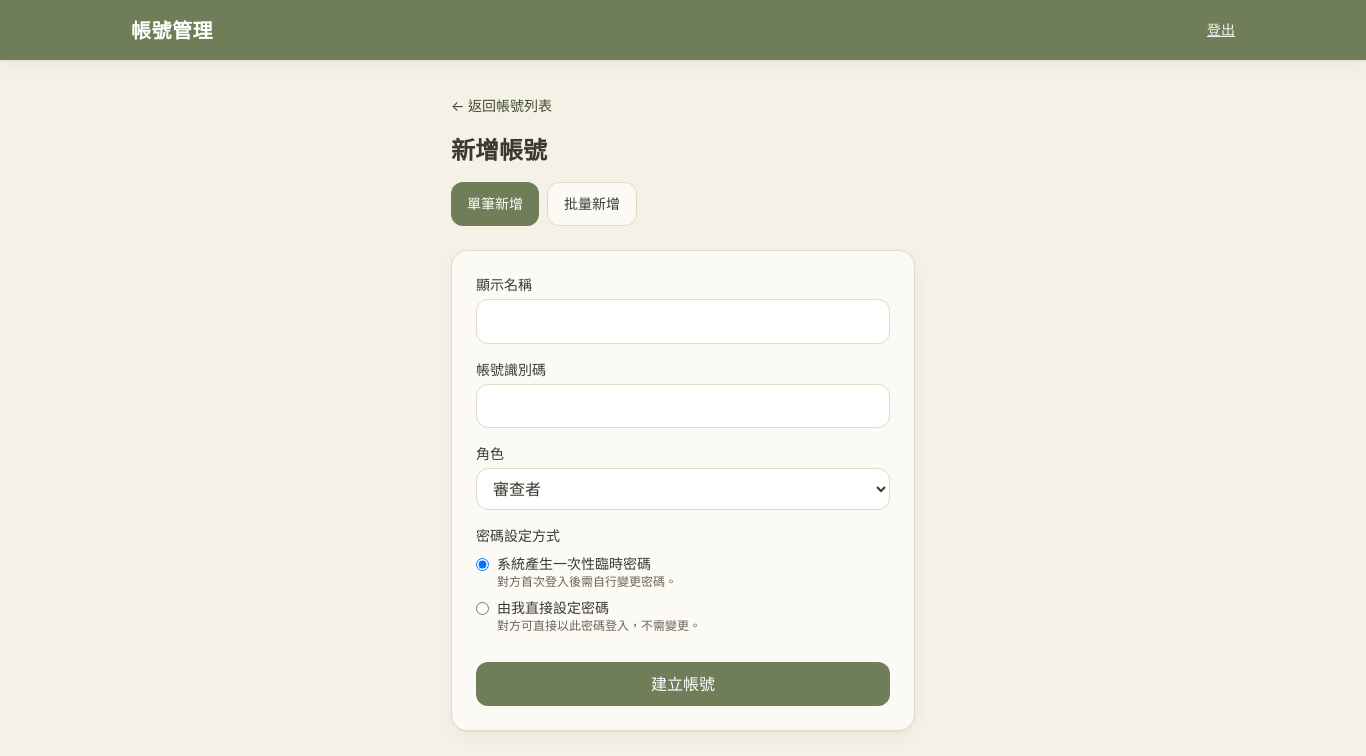
it: AccountCreatePage (US2) › surfaces the one-time temp password after creating an account
Type "林醫師" into the field labelled "顯示名稱" at (683, 322), box left=476, top=299, right=890, bottom=344
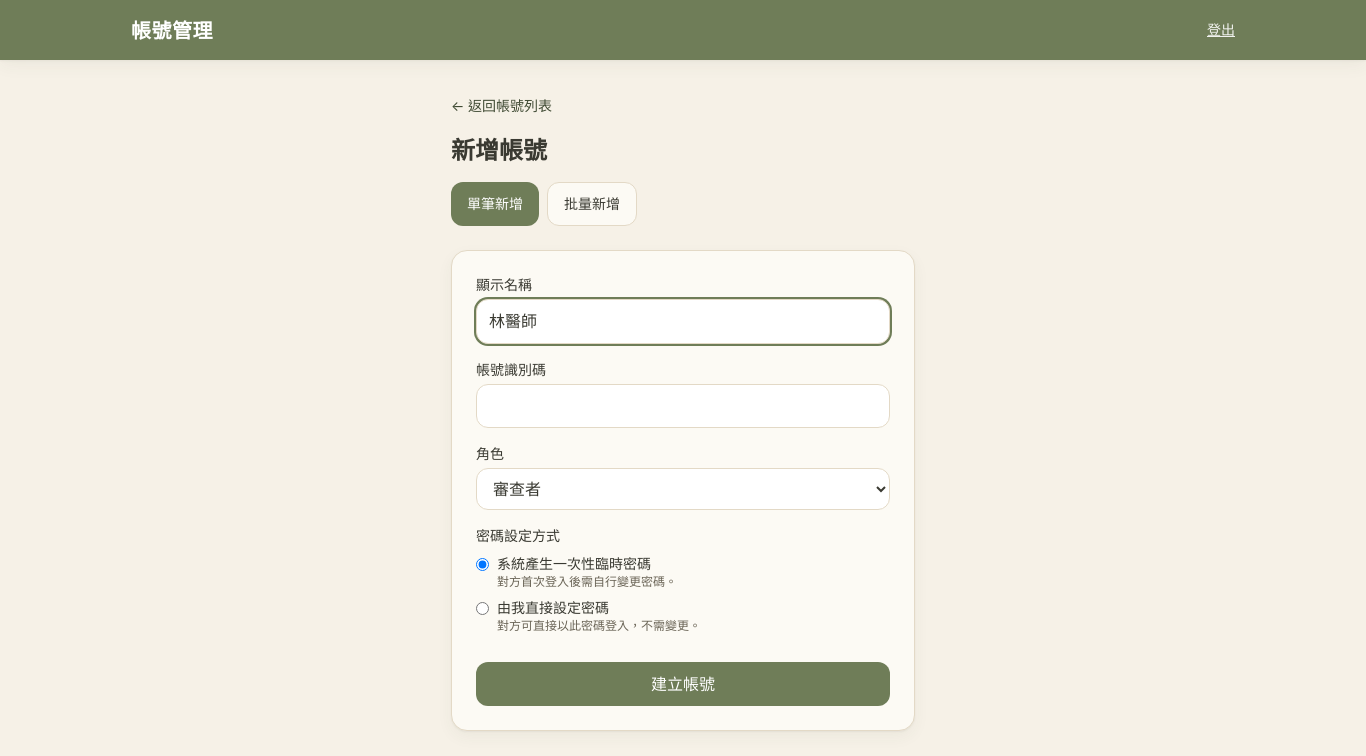
Type "dr.lin" into the field labelled "帳號識別碼" at (683, 406), box left=476, top=384, right=890, bottom=428
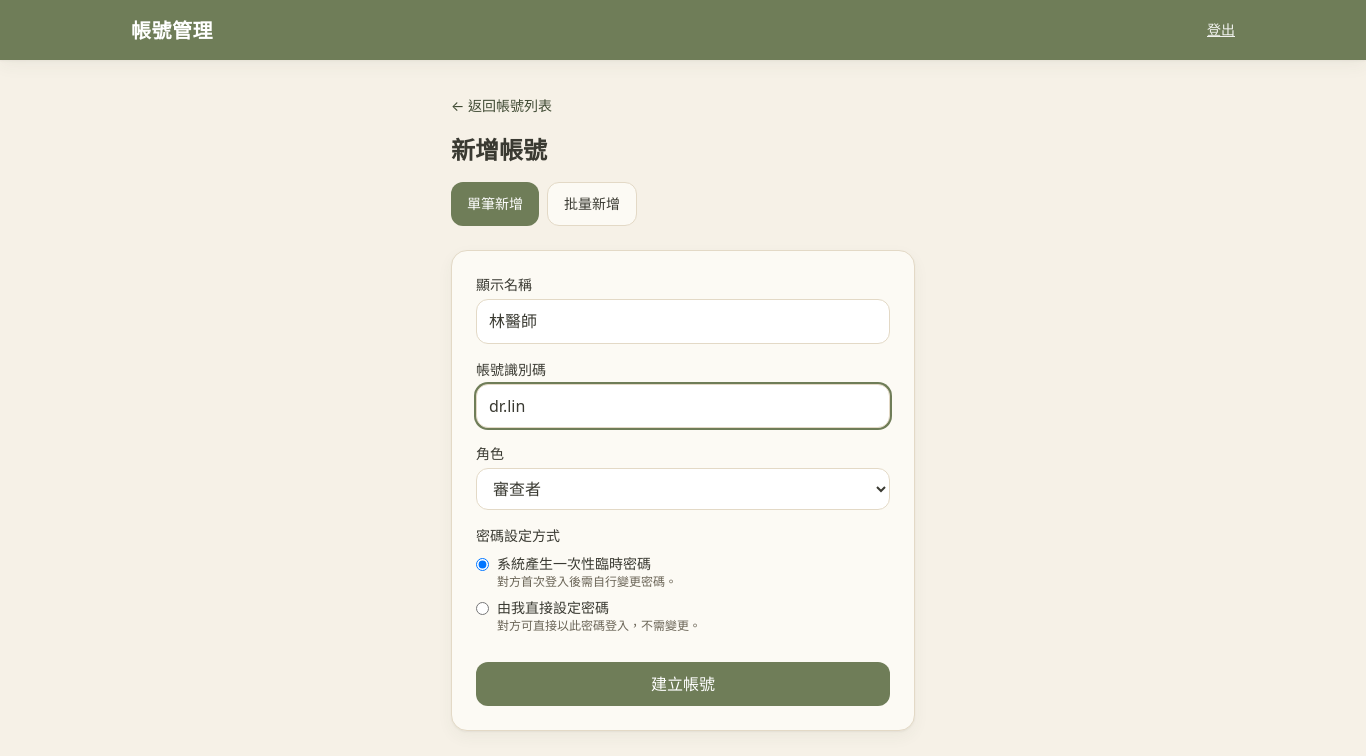
Click the button "建立帳號" at (683, 684), box left=476, top=662, right=890, bottom=706
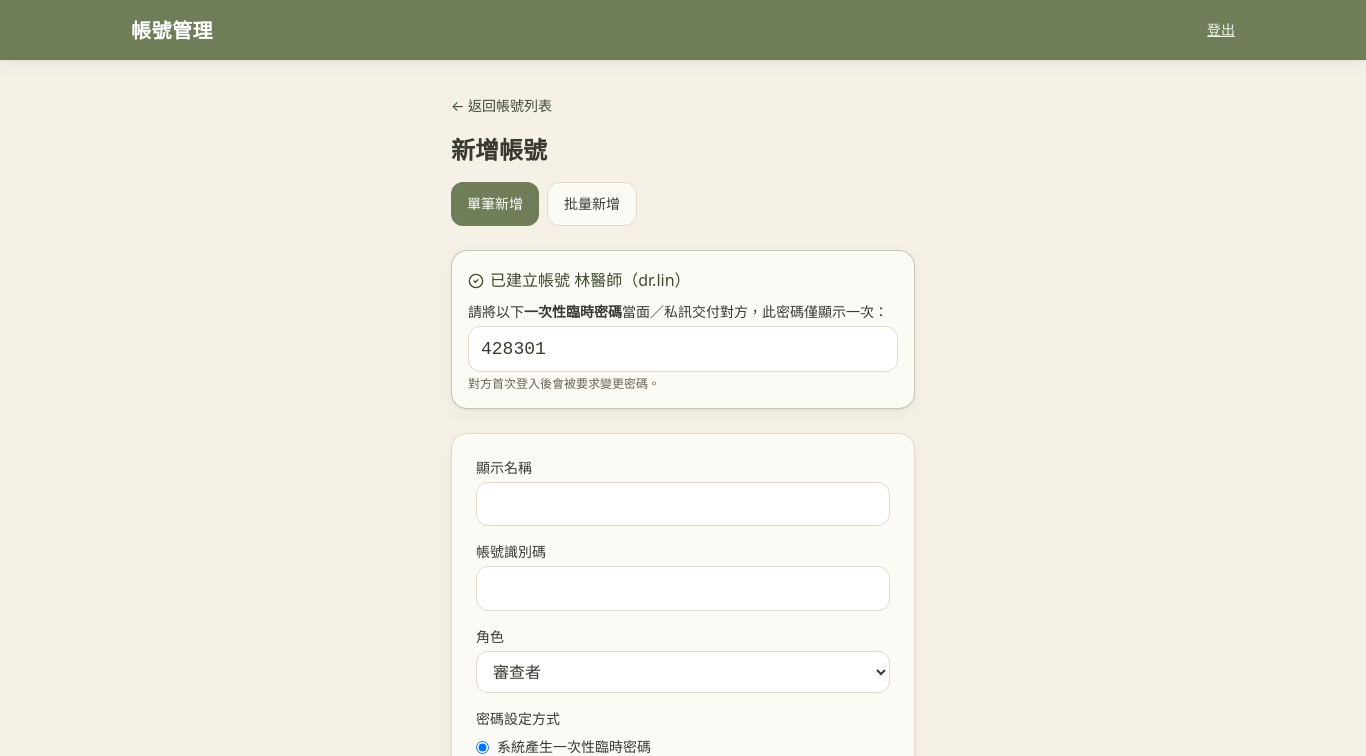
Now the text "428301" is shown, box left=468, top=326, right=898, bottom=372
